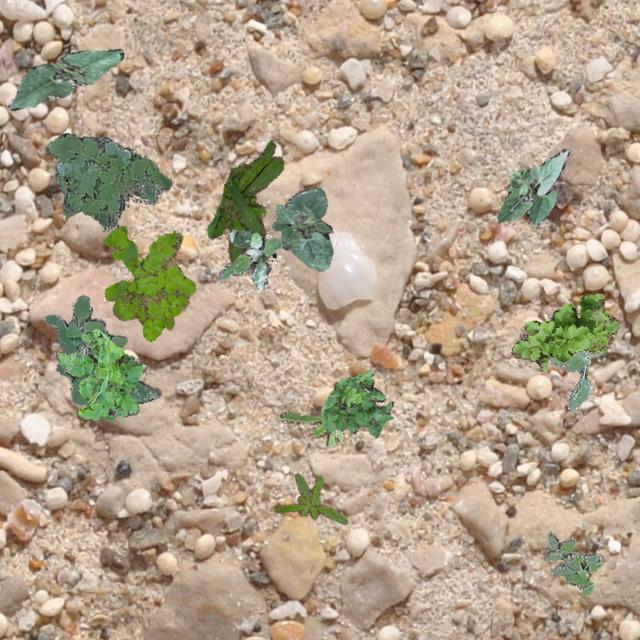crop: (7, 48, 122, 110), (496, 147, 568, 225), (270, 186, 332, 270)
weed: (44, 294, 160, 404), (44, 132, 170, 228), (102, 224, 194, 340), (205, 138, 282, 262), (509, 292, 616, 370), (56, 328, 146, 420), (320, 368, 392, 436), (272, 472, 346, 524), (218, 228, 280, 288), (544, 532, 600, 594), (278, 410, 368, 446), (548, 348, 590, 411)
